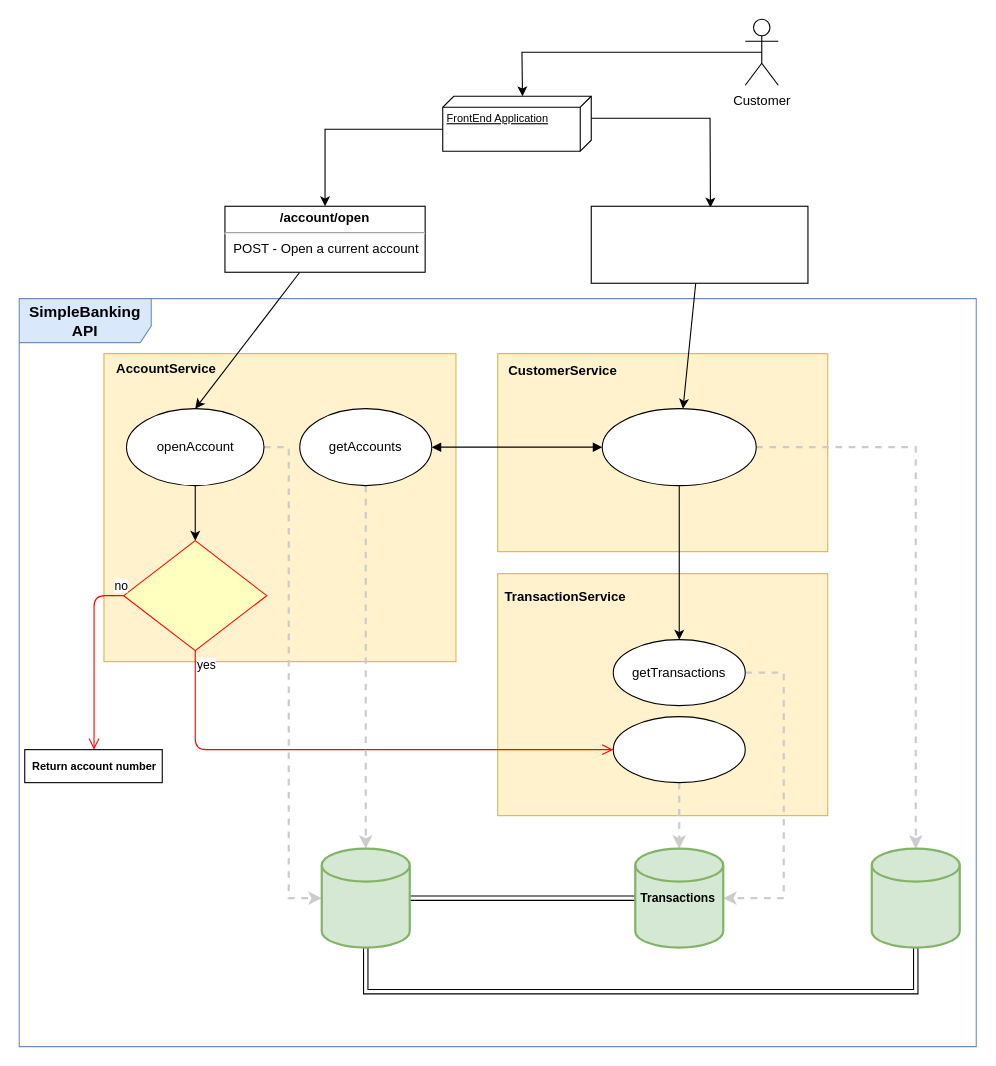
This 996x1066 diagram has some shape labels left out. Each missing label, with the centre of its shape:
"/customer/info GET - Get customer data including transactions" belongs at point 699,244.
"Accounts" belongs at point 365,897.
"Customers" belongs at point 915,897.
"initialCredit > 0" belongs at point 195,595.
"processTransaction" belongs at point 678,749.
"retrieveInfo" belongs at point 678,447.
